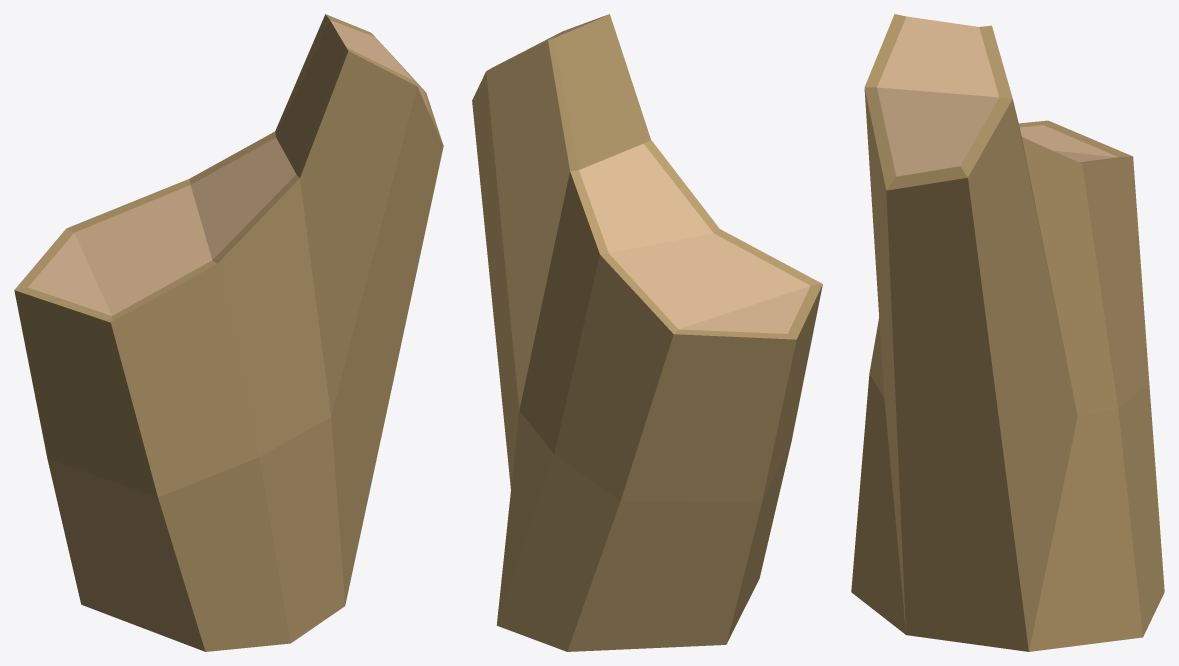
The model's file is Acacia_Stump_02.fbx.
3 renders of one model, left to right at view 1: azimuth 30°, elevation 25°; view 2: azimuth 150°, elevation 25°; view 3: azimuth 270°, elevation 25°, orthographic. The views are drawn at different scales.
Parts seen in each view (by area): view 1: Acacia_Stump_02; view 2: Acacia_Stump_02; view 3: Acacia_Stump_02.
Part boxes in pixels (x1=…): Acacia_Stump_02: x1=14, y1=14, x2=443, y2=651; Acacia_Stump_02: x1=472, y1=14, x2=822, y2=651; Acacia_Stump_02: x1=851, y1=14, x2=1164, y2=651.
Bounding box in the file's own units: 110 × 156 × 71.53.
